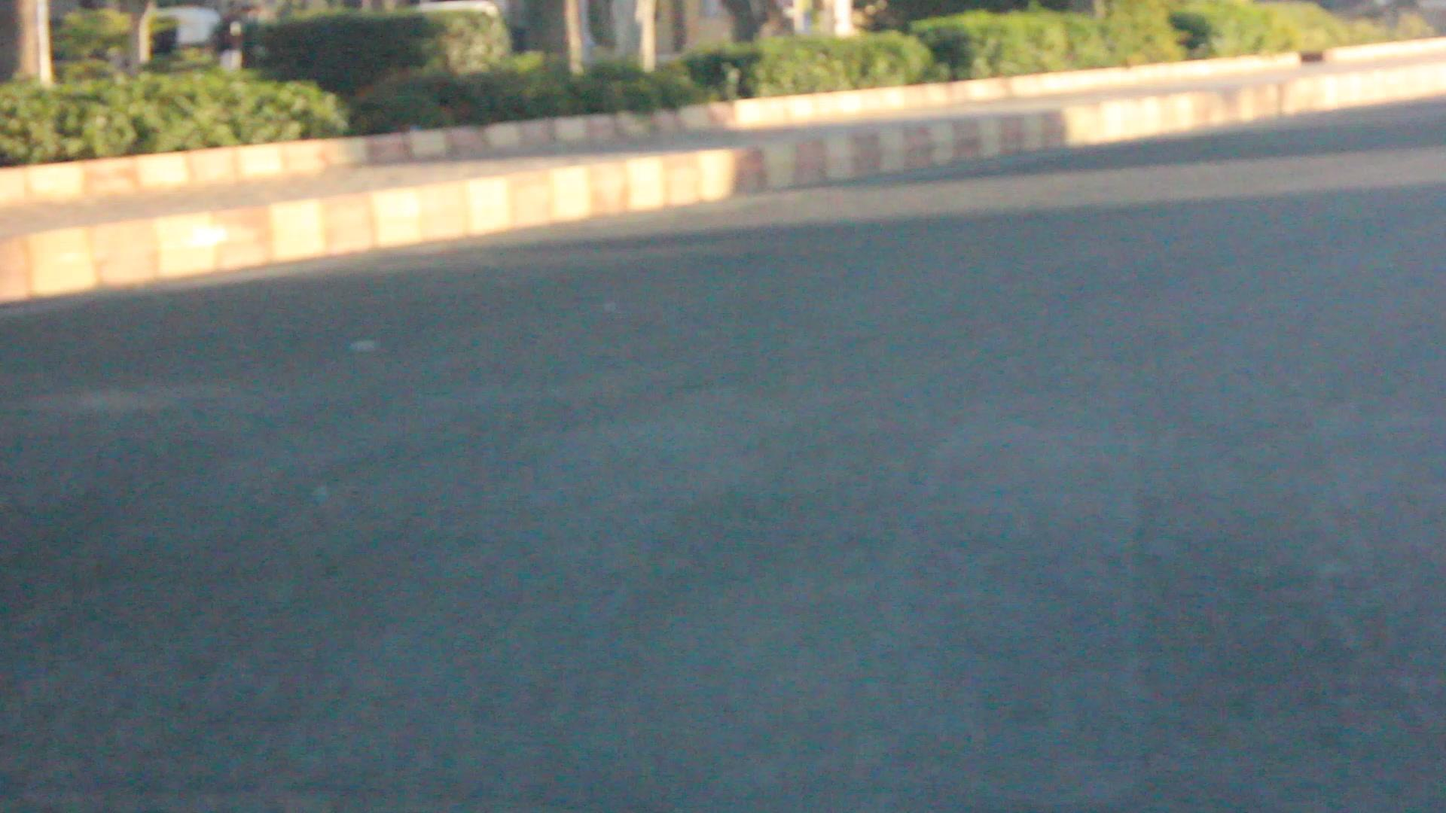Bump: (0, 373, 1445, 794)
